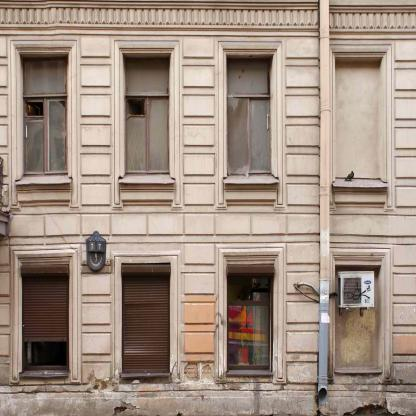Blind: (122, 263, 170, 372), (22, 265, 70, 341)
Building Outline: (0, 1, 416, 416)
Dont: (337, 271, 374, 316)
Facade: (0, 1, 416, 416)
Floor: (0, 0, 416, 223)
Floor Slab: (0, 223, 416, 232)
Ground Floor: (0, 232, 416, 416)
Molding: (1, 3, 416, 32)
Window: (20, 54, 69, 176), (335, 57, 383, 180), (124, 53, 172, 175), (227, 54, 275, 176), (122, 263, 170, 372), (335, 265, 383, 373), (227, 265, 275, 373), (22, 265, 70, 373)
